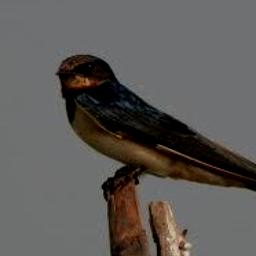Swallow: (56, 56, 256, 199)
